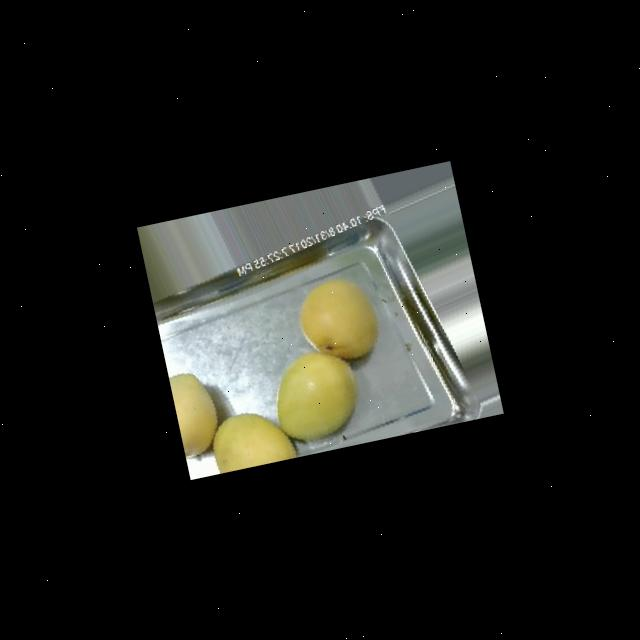Mango: (266, 343, 366, 445), (292, 271, 384, 367), (208, 402, 298, 472), (169, 367, 225, 458)
